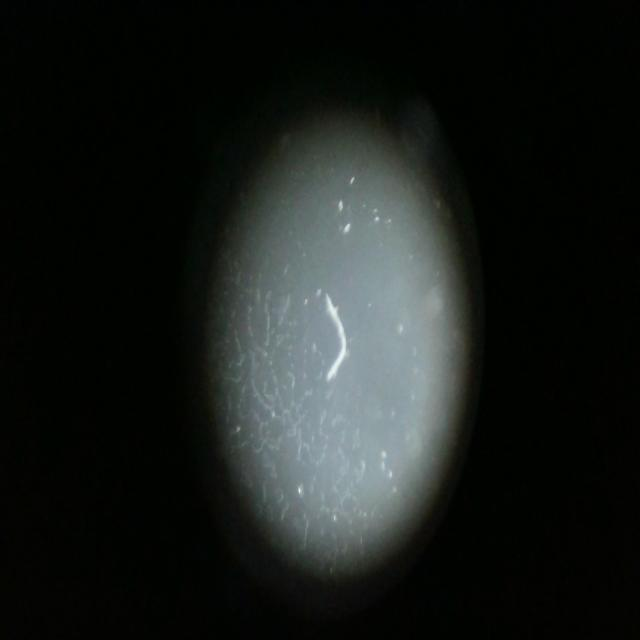psudo-nitzschia: (320, 273, 360, 403)
